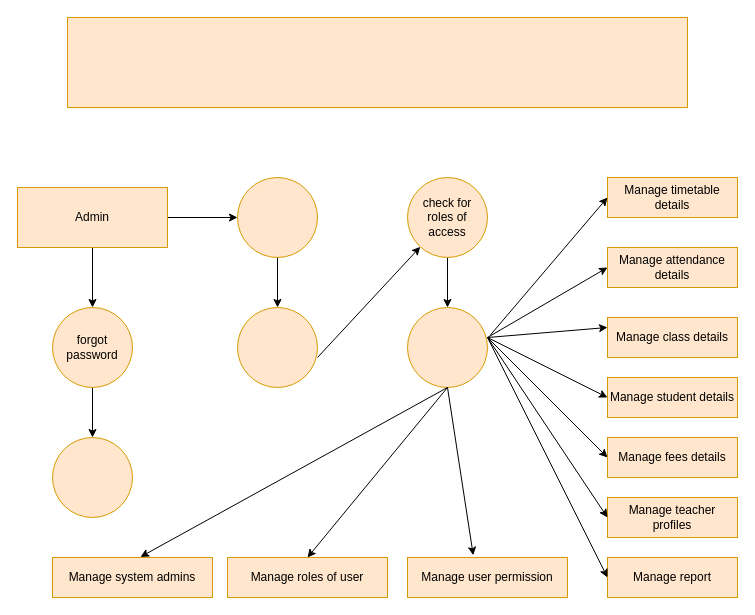
The diagram is 755 pixels wide and 615 high, and some of its shapes have lost their labels. Each missing label, with the centre of its shape:
check credentials: the point at 277,347
login to system: the point at 277,217
Manage modules: the point at 447,347
Send email to user: the point at 92,477
STUDENT INFORMATION SYSTEM: the point at 377,62
